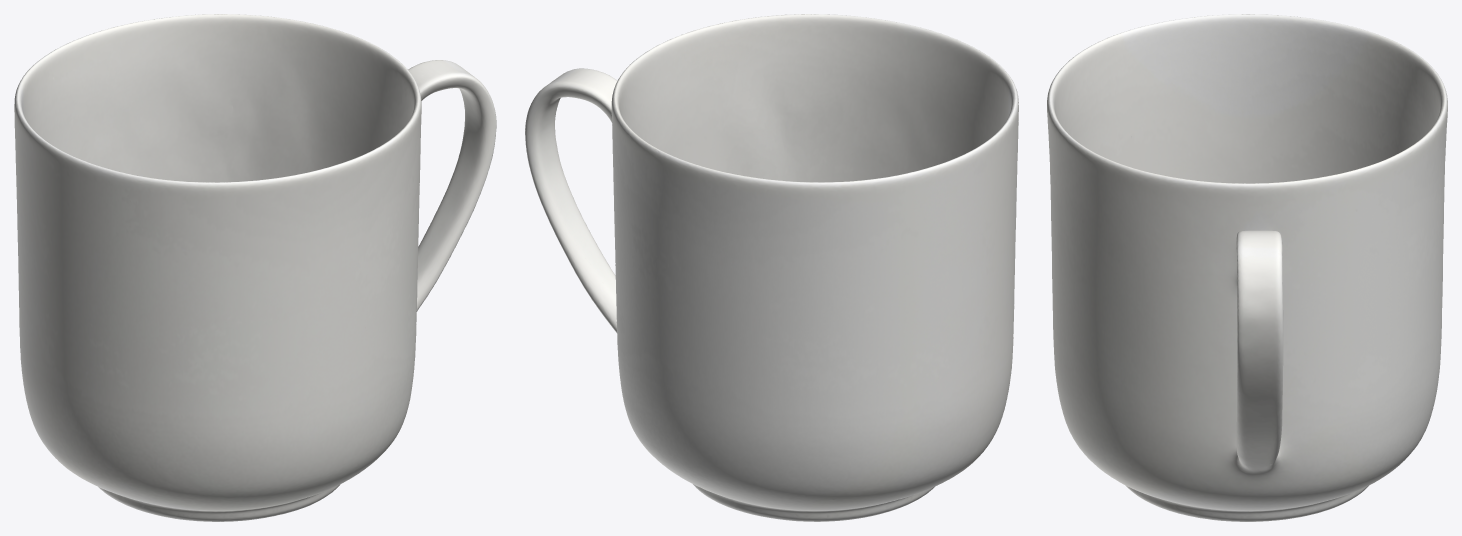
Rendered from Meshy_AI_Mug-FHjBlmoD.glb.
3 renders of one model, left to right at view 1: azimuth 30°, elevation 25°; view 2: azimuth 150°, elevation 25°; view 3: azimuth 270°, elevation 25°, orthographic.
Bounding box in the file's own units: 1.9 × 1.49 × 1.46.
1 material, 1 textured.
